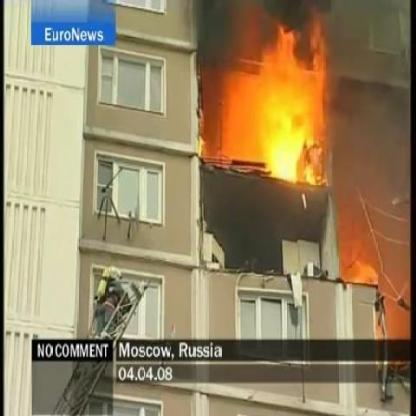fire: (213, 15, 333, 185), (345, 256, 380, 286)
